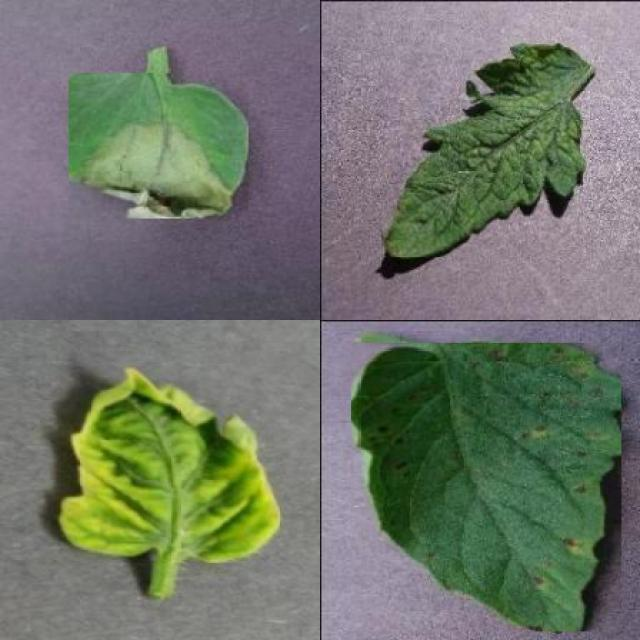Late Blight: (68, 74, 248, 219)
Mosaic Virus: (382, 42, 588, 258)
Septoria: (350, 342, 621, 632)
Yellow Leaf Curl Virus: (58, 366, 281, 563)
